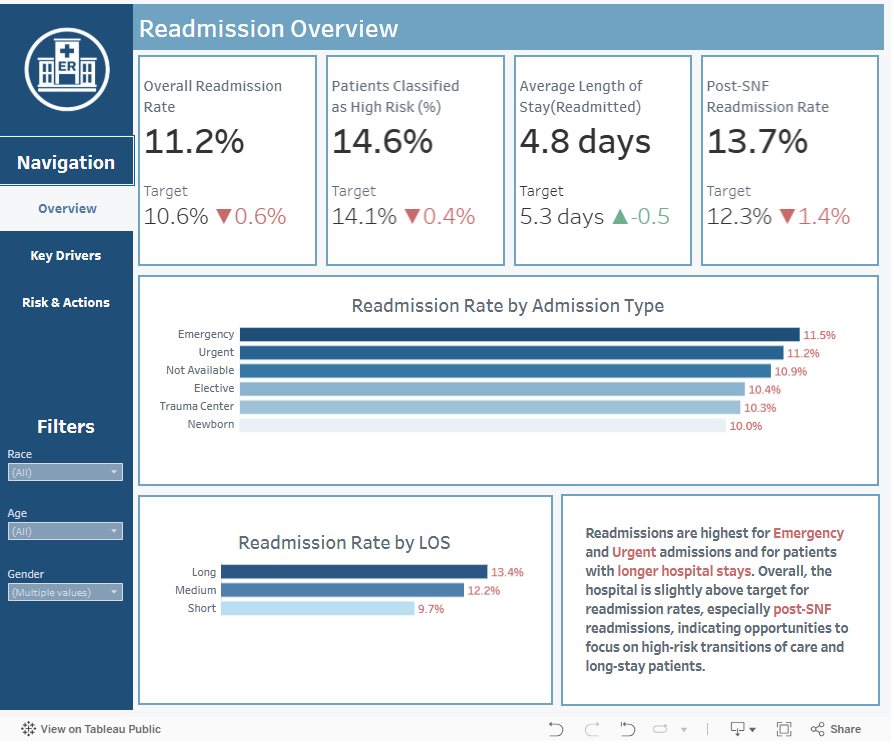

What the dashboard file says about the page in this screenshot:
{"tool":"tableau","page":{"name":"Readmission Overview","canvas":[1000,800],"ordinal":1},"visuals":[{"type":"image","param":"Image/ChatGPT_Image_Jan_13__2026__10_24_58_PM-removebg-preview.png","box":[8,8,150,147]},{"type":"title","box":[158,8,834,51]},{"type":"worksheet","title":"Overall Readmission Rate","mark":"Automatic","box":[158,59,209,245]},{"type":"worksheet","title":"High-Risk Patients","mark":"Automatic","box":[367,59,209,245]},{"type":"worksheet","title":"Average Length of Stay","mark":"Automatic","box":[576,59,208,245]},{"type":"worksheet","title":"Post-SNF Readmission Rate","mark":"Automatic","box":[784,59,208,245]},{"type":"text","box":[8,155,150,53]},{"type":"dashboard-object","box":[8,208,150,52]},{"type":"dashboard-object","box":[8,260,150,52]},{"type":"worksheet","title":"Readmission by Admission Type","mark":"Automatic","rows":["Calculation_0862594181267456"],"cols":["Calculation_0862594184593416"],"box":[158,304,834,244]},{"type":"dashboard-object","box":[8,312,150,52]},{"type":"blank","box":[8,364,150,93]},{"type":"text","box":[8,457,150,36]},{"type":"filter","title":"Readmission by Admission Type","param":"[federated.10oliyl0d1wr1h15zaqq71486b4k].[none:RACE:nk]","box":[8,493,150,65]},{"type":"worksheet","title":"Readmission by LOS","mark":"Automatic","rows":["LOS_GROUP"],"cols":["Calculation_0862594184593416"],"box":[158,548,471,244]},{"type":"text","box":[629,548,363,244]},{"type":"filter","title":"Readmission by Admission Type","param":"[federated.10oliyl0d1wr1h15zaqq71486b4k].[none:AGE:nk]","box":[8,558,150,68]},{"type":"filter","title":"Readmission by Admission Type","param":"[federated.10oliyl0d1wr1h15zaqq71486b4k].[none:GENDER:nk]","box":[8,626,150,57]},{"type":"blank","box":[8,683,150,109]}]}

Visuals, with their boxes on the page's 1000x800 design canvas (x1, y1, x2, y2). These are canvas units, not pixel positions in the 894x750 screenshot, which may show the page scaled, cropped or inside an application window:
image: BBox(8, 8, 158, 155)
title: BBox(158, 8, 992, 59)
"Overall Readmission Rate" worksheet: BBox(158, 59, 367, 304)
"High-Risk Patients" worksheet: BBox(367, 59, 576, 304)
"Average Length of Stay" worksheet: BBox(576, 59, 784, 304)
"Post-SNF Readmission Rate" worksheet: BBox(784, 59, 992, 304)
text: BBox(8, 155, 158, 208)
dashboard-object: BBox(8, 208, 158, 260)
dashboard-object: BBox(8, 260, 158, 312)
"Readmission by Admission Type" worksheet: BBox(158, 304, 992, 548)
dashboard-object: BBox(8, 312, 158, 364)
blank: BBox(8, 364, 158, 457)
text: BBox(8, 457, 158, 493)
"Readmission by Admission Type" filter: BBox(8, 493, 158, 558)
"Readmission by LOS" worksheet: BBox(158, 548, 629, 792)
text: BBox(629, 548, 992, 792)
"Readmission by Admission Type" filter: BBox(8, 558, 158, 626)
"Readmission by Admission Type" filter: BBox(8, 626, 158, 683)
blank: BBox(8, 683, 158, 792)
